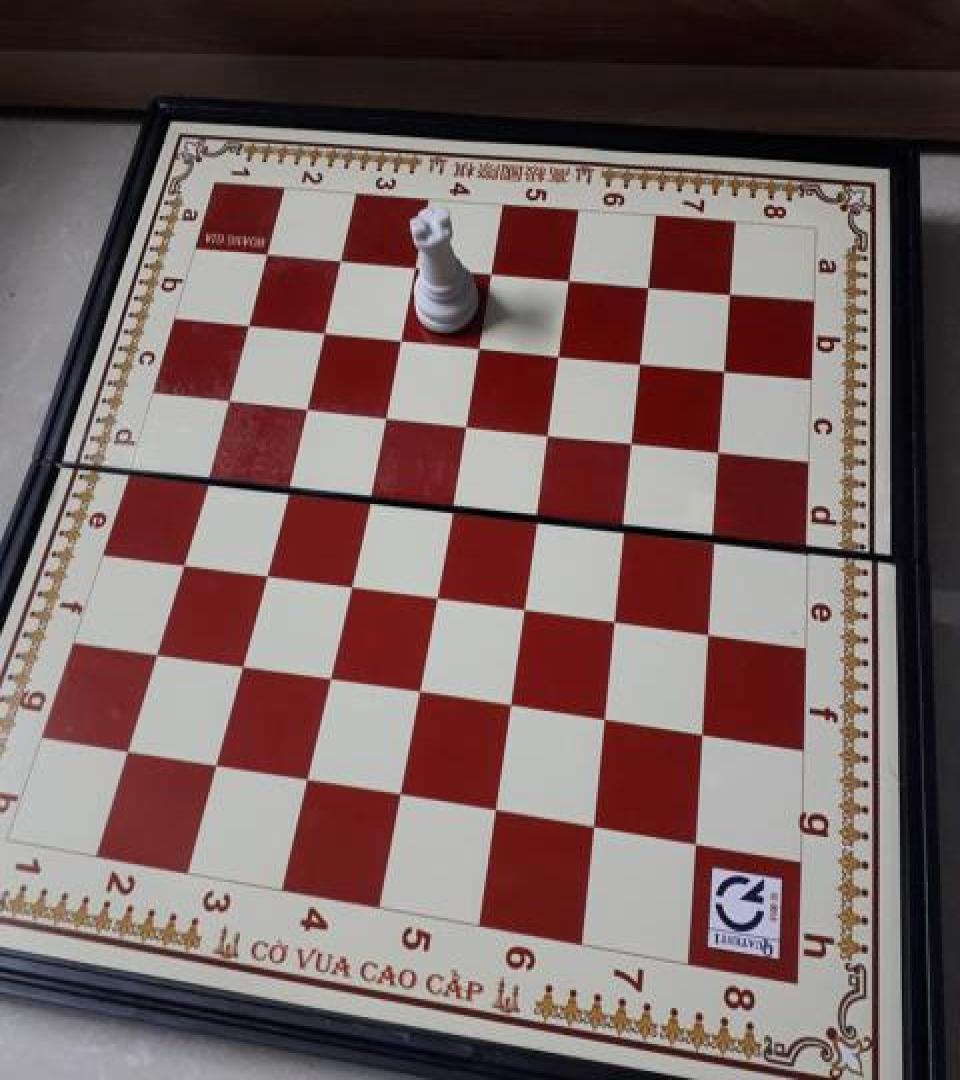xcorner: (380, 317, 414, 356), (612, 418, 646, 457), (328, 562, 362, 601), (398, 669, 432, 708), (709, 270, 743, 308), (628, 264, 662, 302), (548, 258, 582, 296), (471, 252, 505, 290), (395, 246, 429, 284), (321, 241, 355, 279), (249, 235, 283, 273), (704, 346, 738, 384), (620, 339, 654, 377), (538, 331, 572, 369), (458, 324, 492, 362), (304, 310, 338, 348), (230, 304, 264, 342), (700, 426, 734, 464), (528, 410, 562, 448), (445, 402, 479, 440), (364, 393, 398, 431), (286, 385, 320, 423), (209, 377, 243, 415), (694, 514, 728, 552), (604, 504, 638, 542), (516, 494, 550, 532), (430, 484, 464, 522), (347, 475, 381, 513), (266, 466, 300, 504), (187, 457, 221, 495), (689, 609, 723, 647), (595, 596, 629, 634), (504, 585, 538, 623), (415, 574, 449, 612), (244, 552, 278, 590), (163, 541, 197, 579), (683, 711, 717, 749), (585, 696, 619, 734), (490, 683, 524, 721), (308, 657, 342, 695), (221, 645, 255, 683), (137, 632, 171, 670), (676, 822, 710, 860), (574, 806, 608, 844), (476, 790, 510, 828), (380, 774, 414, 812), (287, 760, 321, 798), (197, 745, 231, 783), (109, 732, 143, 770)
